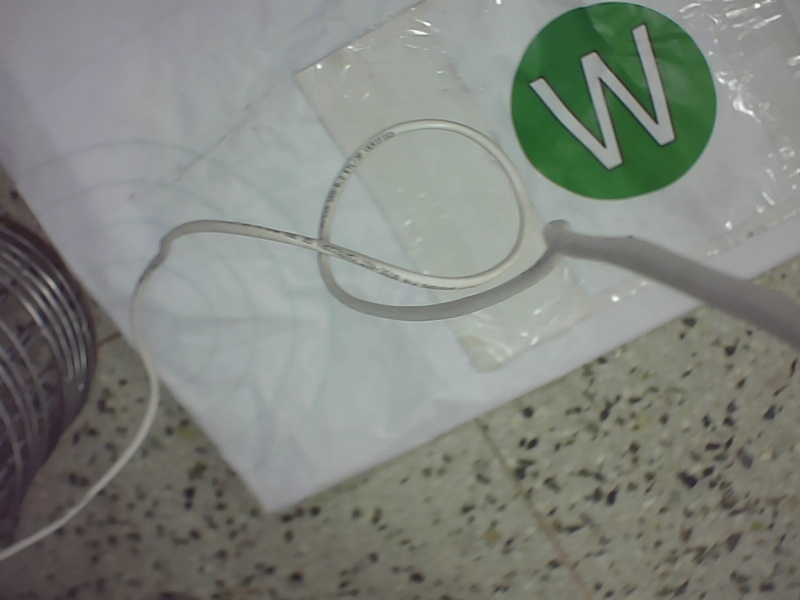areaB: (502, 3, 733, 201)
